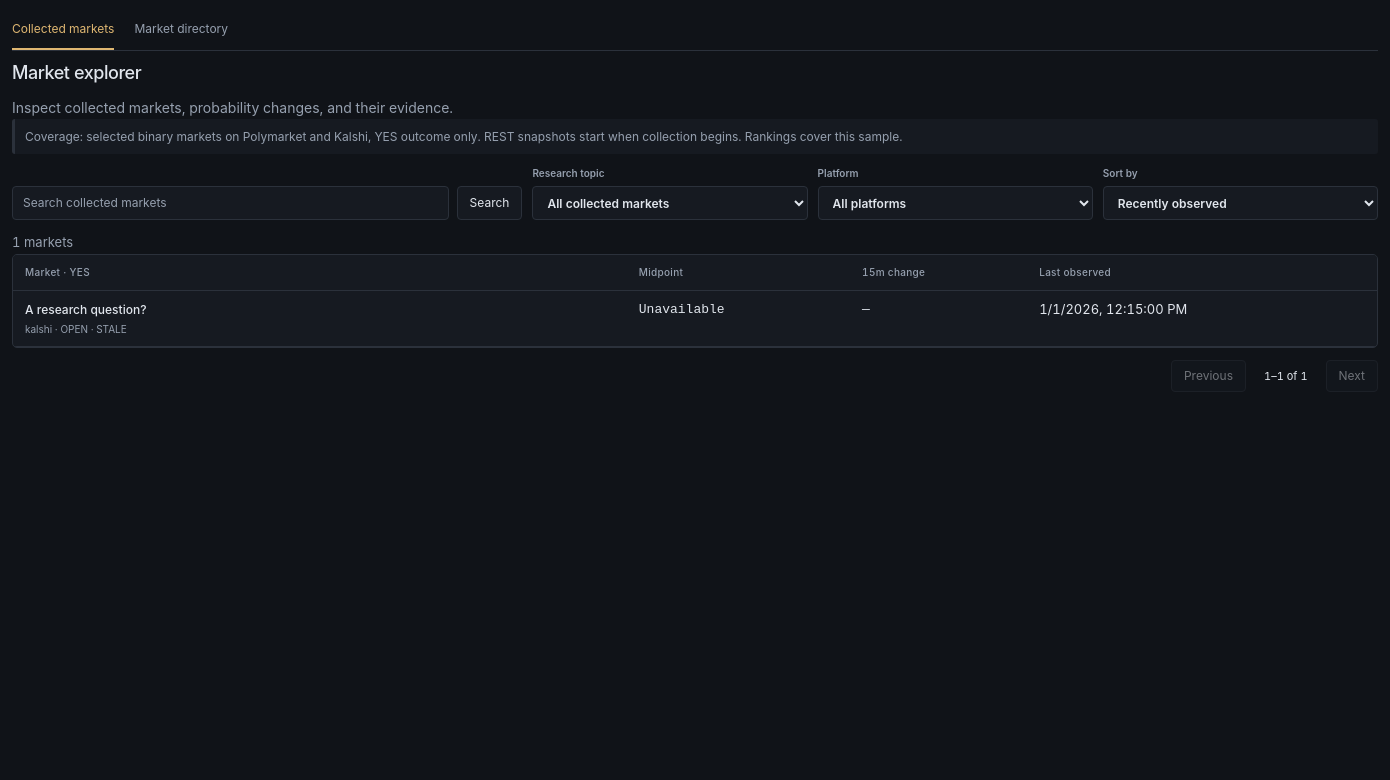
Scenario: preserves unknown probabilities and stale status through detail navigation
Step 1. Click the button "A research question?" → (86, 309), box [25, 300, 146, 319]
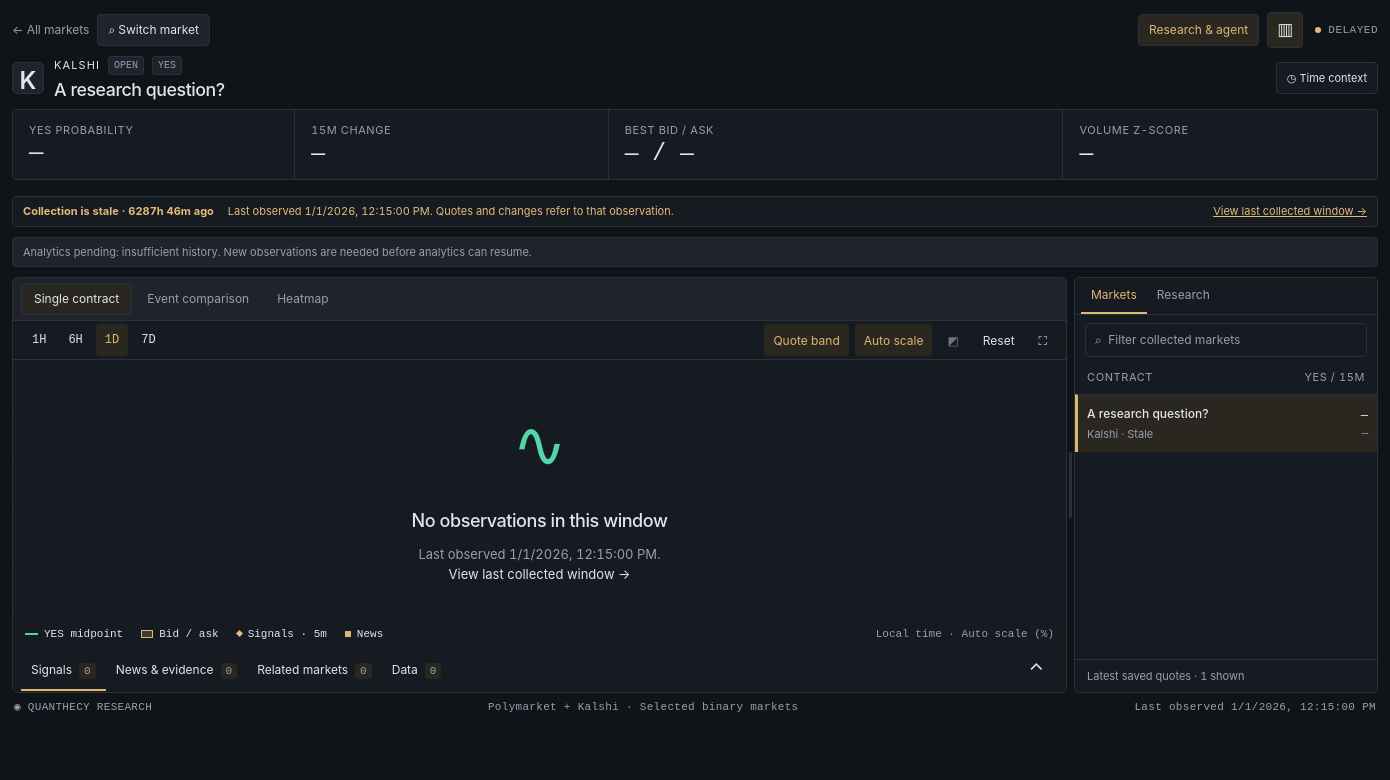
expect the text "Collection is stale · 6287h 46m ago" is shown: met, box [23, 203, 214, 220]
expect the text "Analytics pending: insufficient history" is shown: met, box [12, 237, 1378, 267]
expect the heading "No observations in this window" is shown: met, box [412, 507, 667, 534]
Step 2. Click the button "← All markets" → (51, 30), box [12, 14, 89, 46]
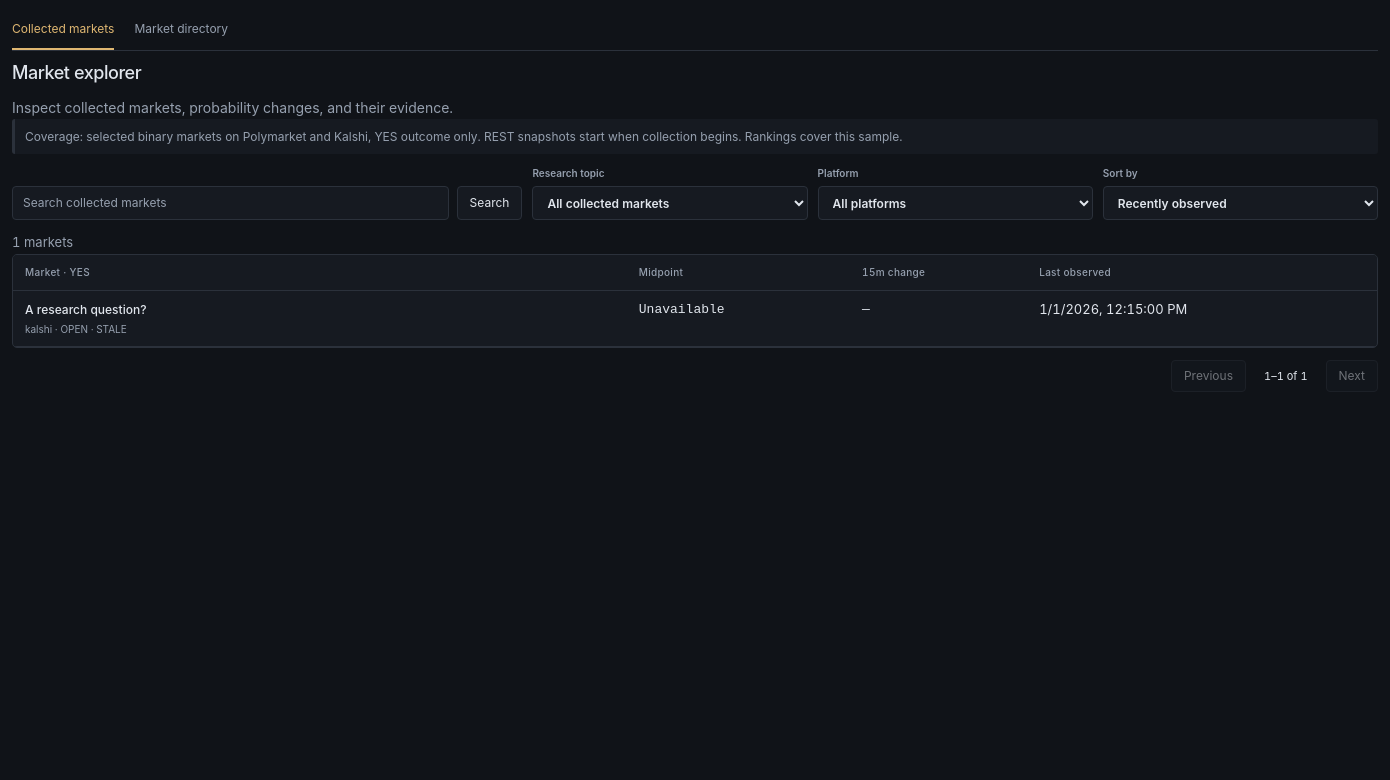
expect the heading "Market explorer" is shown: met, box [12, 62, 141, 83]
